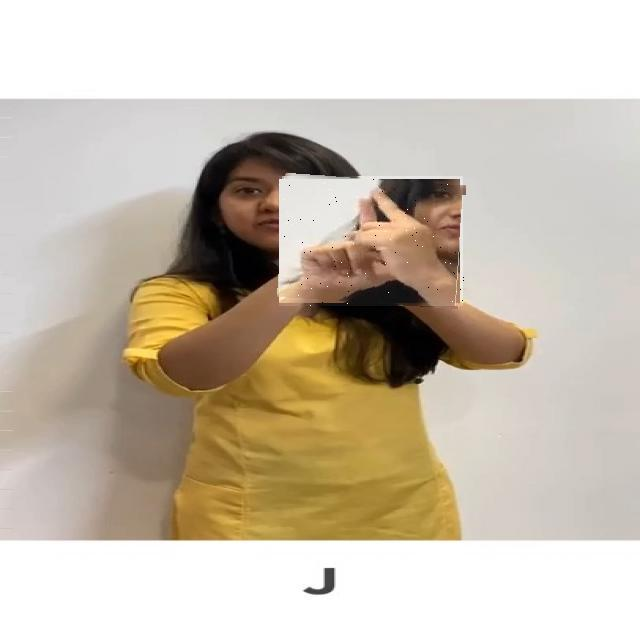J: (280, 176, 466, 306)
